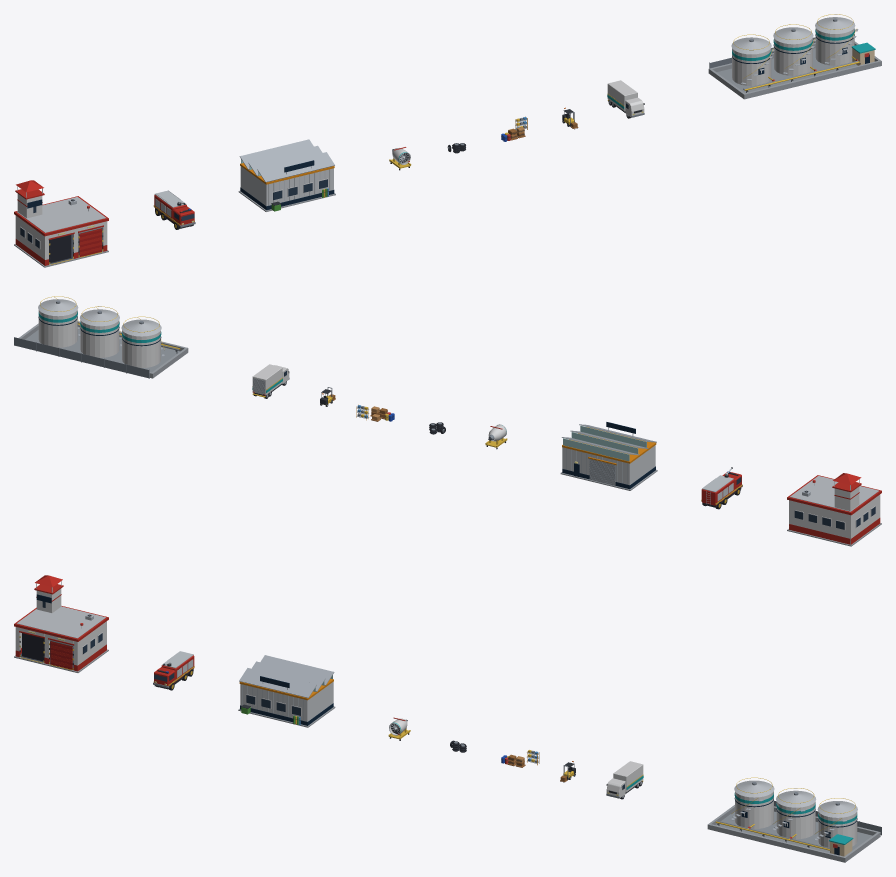
The model's file is skyport-yard.glb.
The picture shows the model from 3 angles, top to bottom: view 1: azimuth 30°, elevation 25°; view 2: azimuth 150°, elevation 25°; view 3: azimuth 330°, elevation 25°; orthographic projection.
Parts seen in each view (by area): view 1: sp_fuelfarm_mesh, sp_firestation_mesh, sp_workshop_mesh, sp_firetruck_mesh, sp_boxtruck_mesh; view 2: sp_fuelfarm_mesh, sp_firestation_mesh, sp_workshop_mesh, sp_firetruck_mesh, sp_boxtruck_mesh; view 3: sp_fuelfarm_mesh, sp_firestation_mesh, sp_workshop_mesh, sp_firetruck_mesh, sp_boxtruck_mesh.
Boxes of the visible parts, left/top/right/bottom form: sp_fuelfarm_mesh: left=708, top=14, right=881, bottom=99; sp_firestation_mesh: left=14, top=180, right=108, bottom=267; sp_workshop_mesh: left=238, top=139, right=335, bottom=211; sp_firetruck_mesh: left=153, top=190, right=195, bottom=229; sp_boxtruck_mesh: left=607, top=80, right=644, bottom=118; sp_fuelfarm_mesh: left=14, top=296, right=188, bottom=378; sp_firestation_mesh: left=787, top=473, right=881, bottom=546; sp_workshop_mesh: left=560, top=424, right=657, bottom=490; sp_firetruck_mesh: left=701, top=472, right=742, bottom=509; sp_boxtruck_mesh: left=252, top=364, right=289, bottom=398; sp_fuelfarm_mesh: left=707, top=777, right=881, bottom=862; sp_firestation_mesh: left=14, top=575, right=108, bottom=672; sp_workshop_mesh: left=238, top=655, right=335, bottom=727; sp_firetruck_mesh: left=153, top=651, right=194, bottom=690; sp_boxtruck_mesh: left=606, top=761, right=643, bottom=799.
Bounding box in the file's own units: 148 × 11.2 × 11.35.
